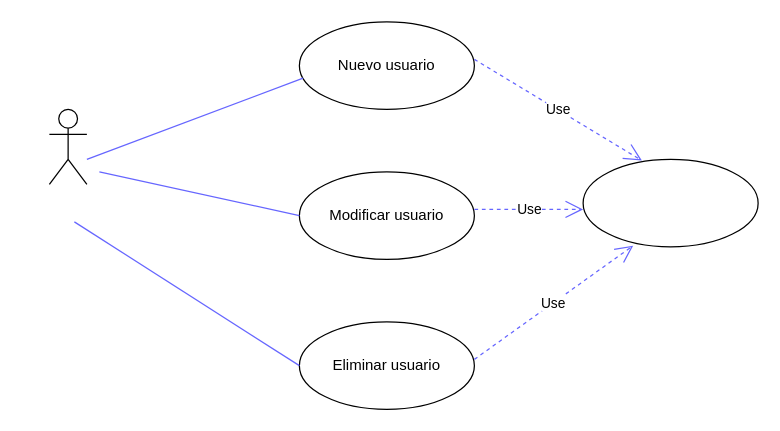
Some shapes in this 780 by 431 pixel diagram are drawn without their labels. The shapes that lost their labels are listed below. From the top down, each one's centre as x and y in pixels, then its label:
At point (67, 146): "Administrador".
At point (670, 202): "Consultar usuarios".
